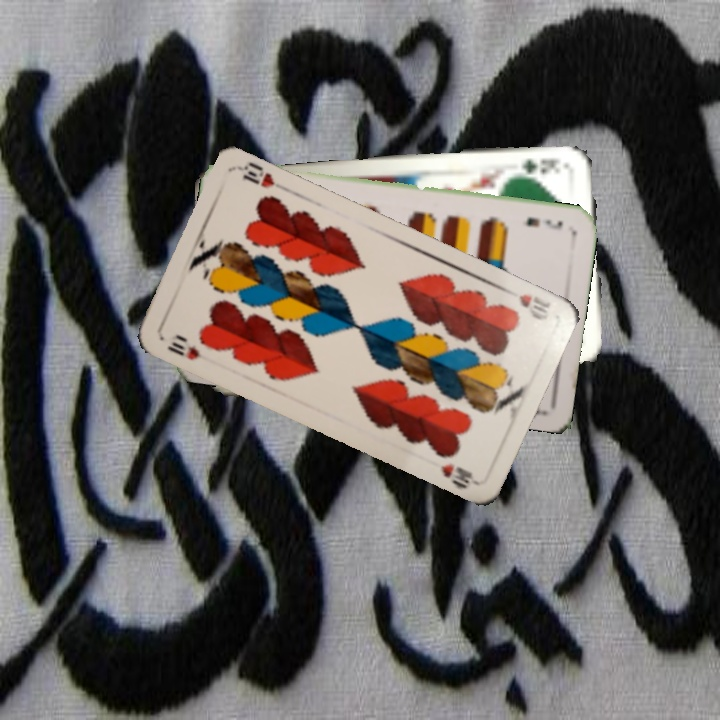E7: (521, 213, 565, 233)
GK: (518, 154, 562, 176)
H10: (500, 284, 554, 323), (163, 337, 203, 363)
